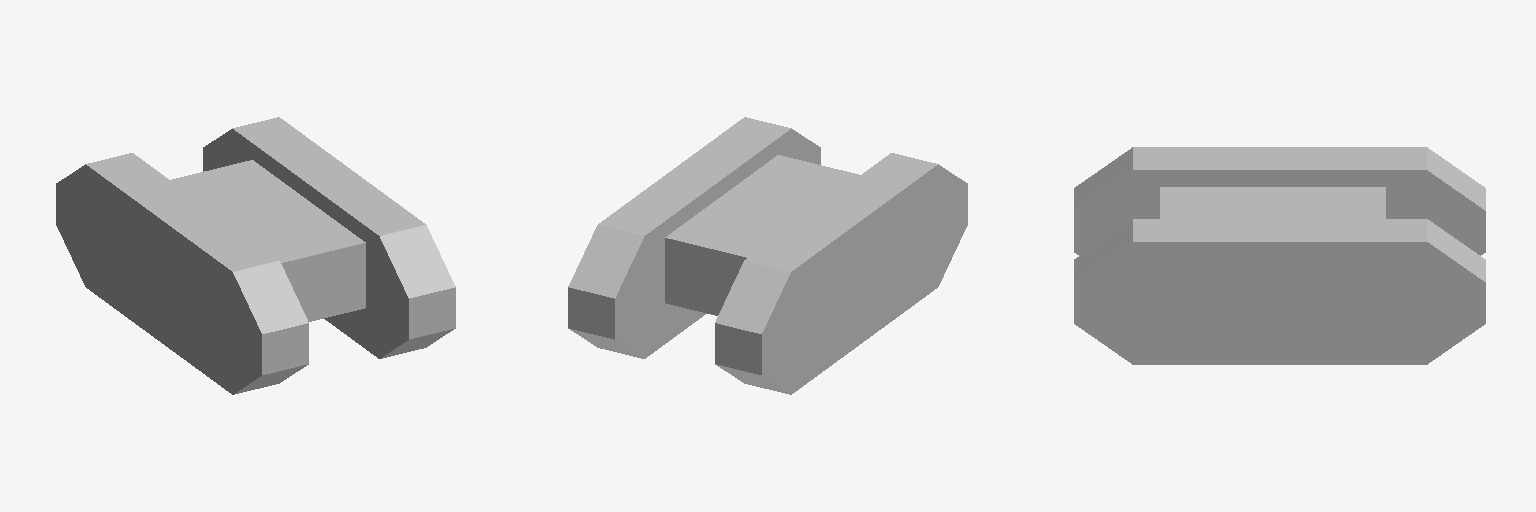
The model's file is TankMesh.obj.
3 renders of one model, left to right at view 1: azimuth 30°, elevation 25°; view 2: azimuth 150°, elevation 25°; view 3: azimuth 270°, elevation 25°, orthographic.
Visible parts, largest first — view 1: TankMesh; view 2: TankMesh; view 3: TankMesh.
Boxes of the visible parts, x1,y1,x2,y2 form: TankMesh: [56, 117, 455, 394]; TankMesh: [568, 117, 967, 394]; TankMesh: [1074, 147, 1485, 364].
Size of the model in its own units: 1.24 by 0.75 by 2.27.